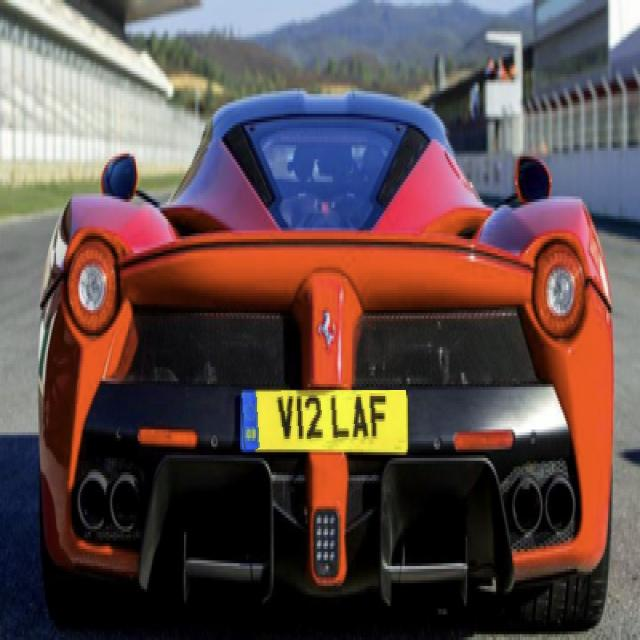licence: (240, 390, 406, 449)
